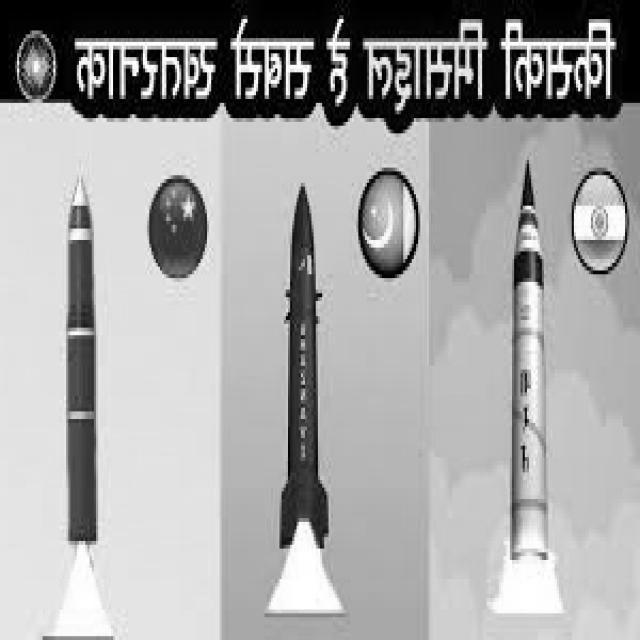missile: (506, 158, 550, 573), (279, 174, 326, 553), (64, 165, 97, 557)
